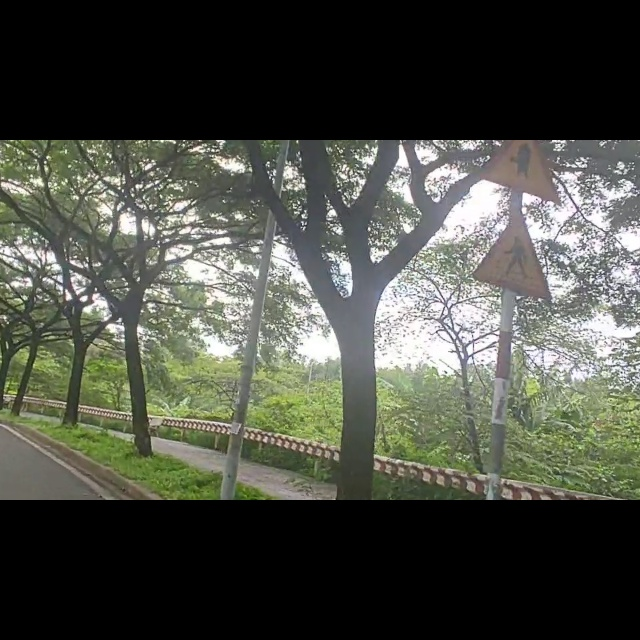bien_nguy_hiem: (471, 119, 564, 300), (471, 4, 571, 122)
